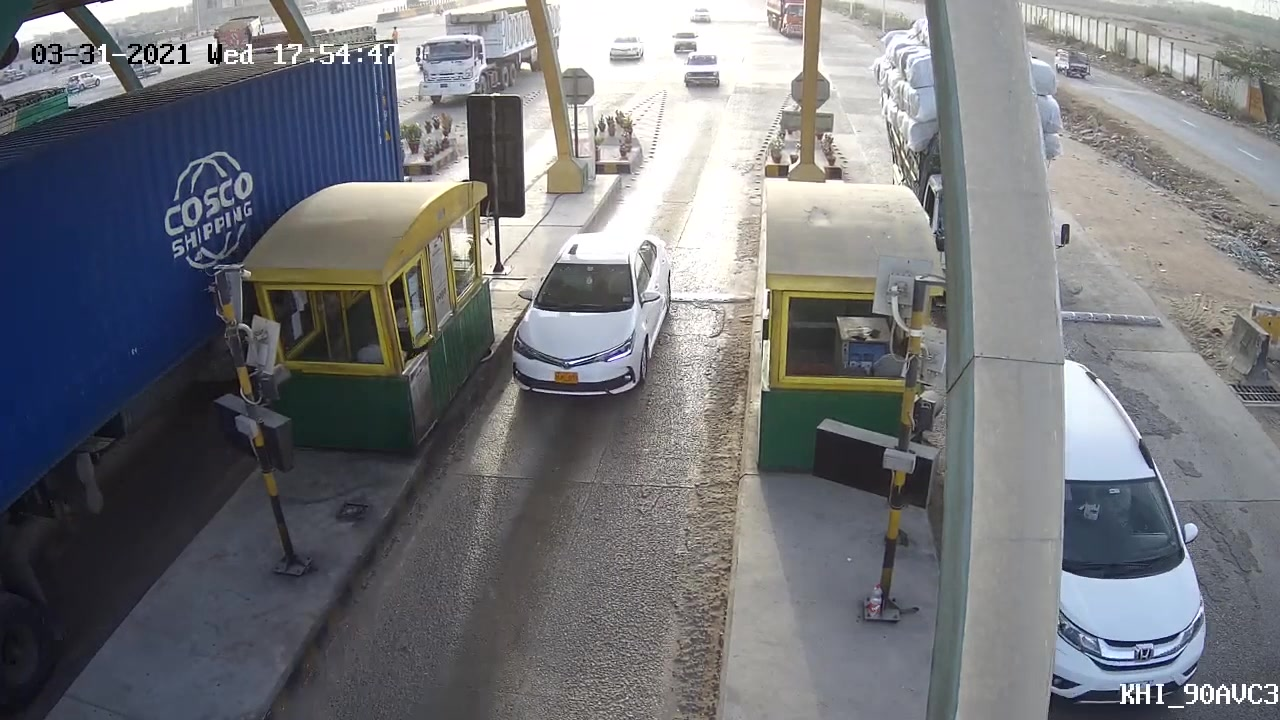F1: (498, 230, 674, 411)
